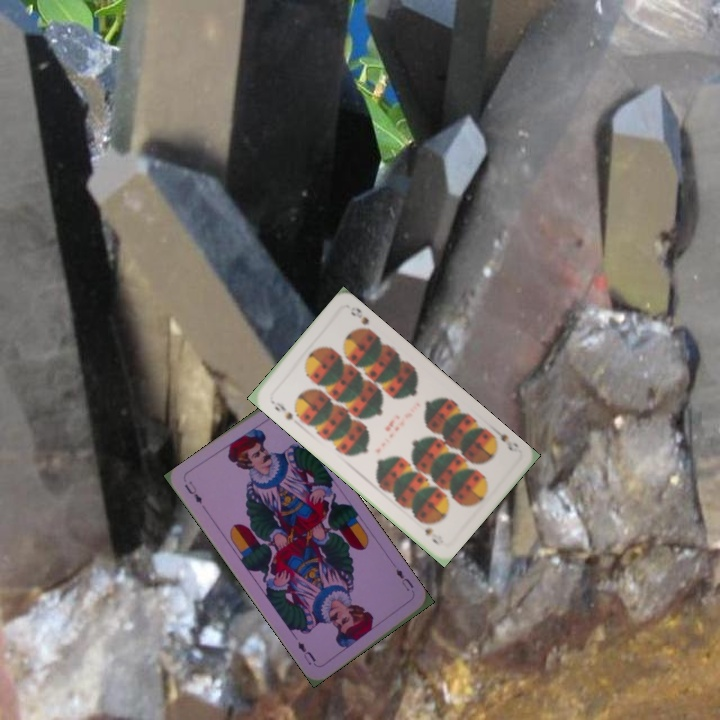EU: (180, 477, 205, 506), (392, 564, 416, 594)
S9: (489, 424, 521, 455), (266, 395, 296, 423)
